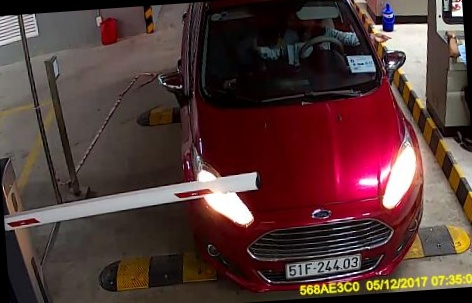plate: (280, 254, 368, 278)
